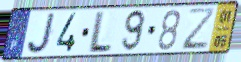4: (54, 11, 78, 55)
8: (157, 8, 182, 52)
9: (119, 8, 148, 54)
J: (26, 12, 58, 56)
L: (85, 10, 114, 55)
Z: (181, 6, 217, 52)
